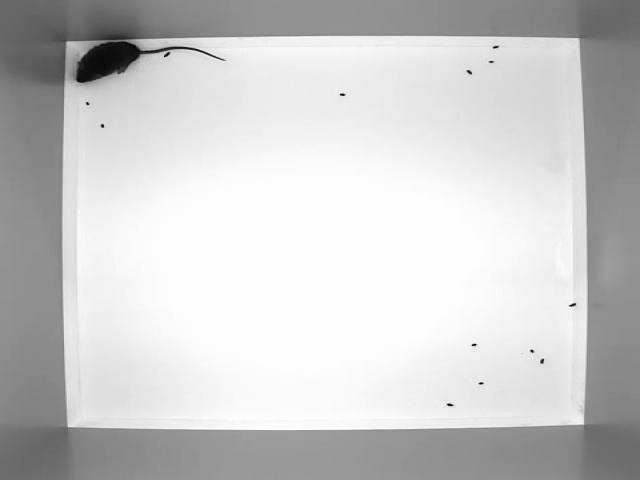Tikus: (70, 39, 230, 87)
